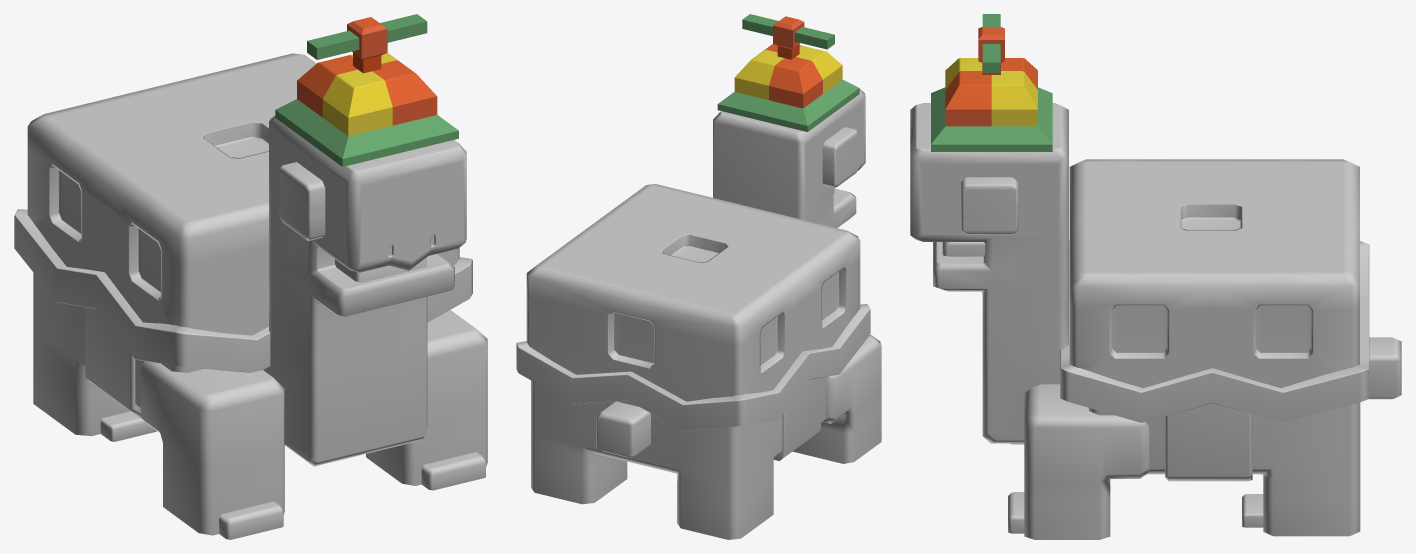
3 views of the same model, side by side, from view 1: azimuth 30°, elevation 25°; view 2: azimuth 150°, elevation 25°; view 3: azimuth 270°, elevation 25° (orthographic). The views are drawn at different scales.
Parts seen in each view (by area): view 1: pq0324pc, pq0324pc_obj; view 2: pq0324pc, pq0324pc_obj; view 3: pq0324pc, pq0324pc_obj.
Boxes of the visible parts, x1,y1,x2,y2 form: pq0324pc: [14, 53, 487, 539]; pq0324pc_obj: [275, 14, 458, 166]; pq0324pc: [516, 89, 881, 539]; pq0324pc_obj: [717, 14, 859, 131]; pq0324pc: [910, 103, 1401, 539]; pq0324pc_obj: [931, 14, 1052, 151].
Bounding box in the file's own units: 1.27 × 2 × 2.
